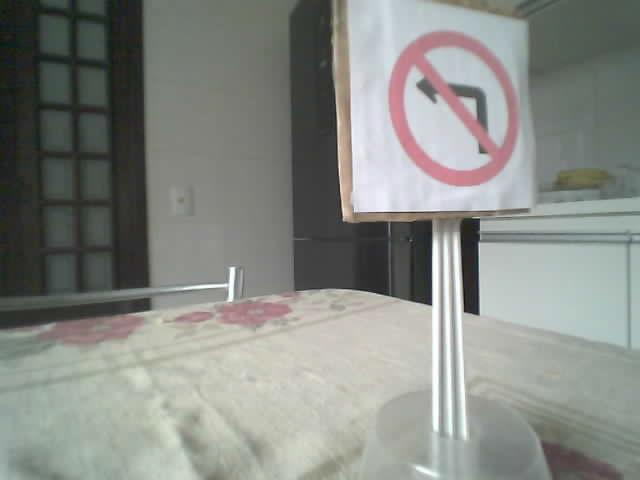R-4a_proibido-esquerda: (387, 28, 518, 186)
